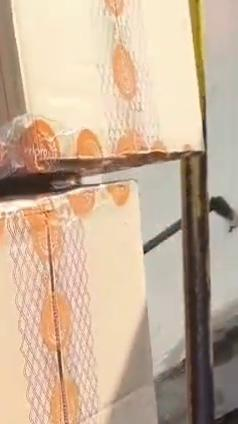box: (0, 183, 156, 423)
